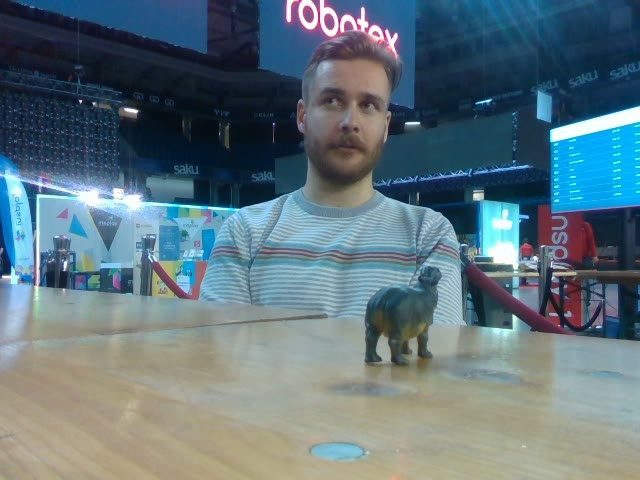toy: (364, 266, 441, 365)
